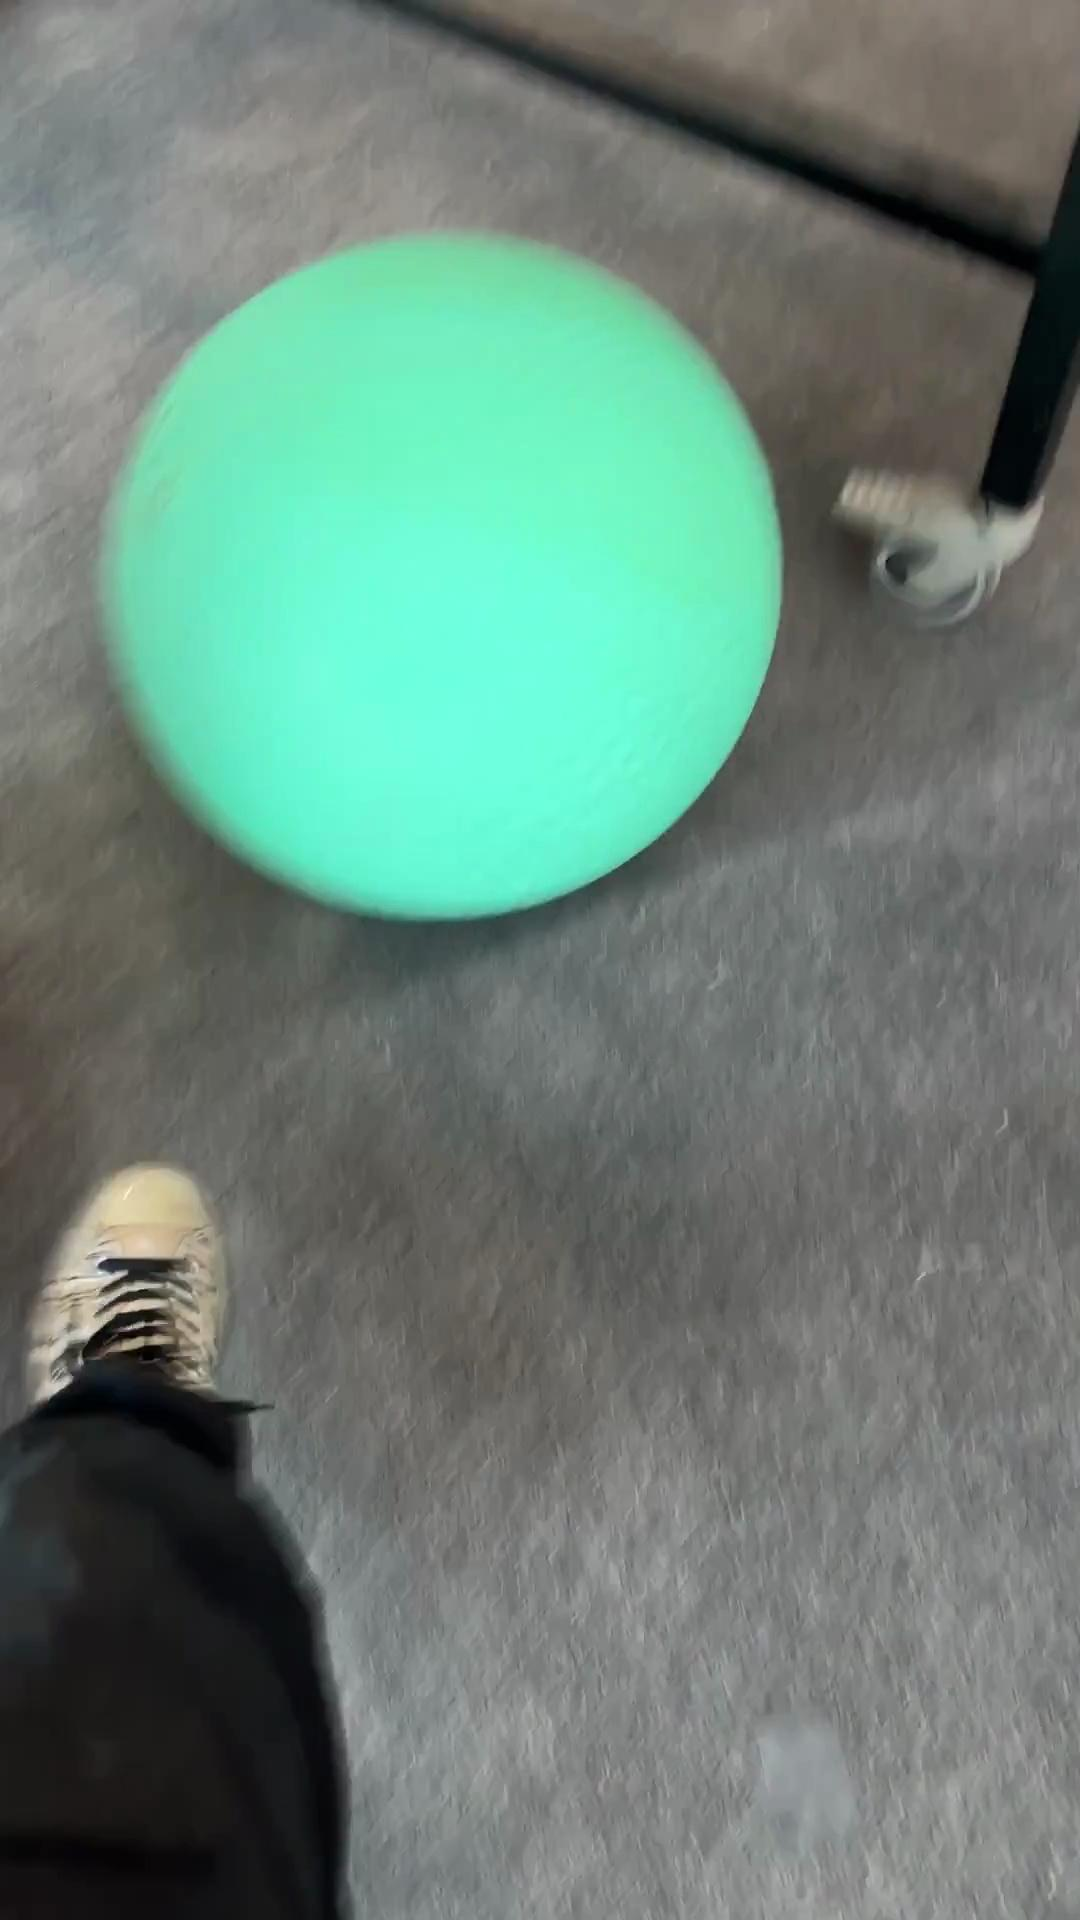ALGAE: (95, 225, 785, 924)
